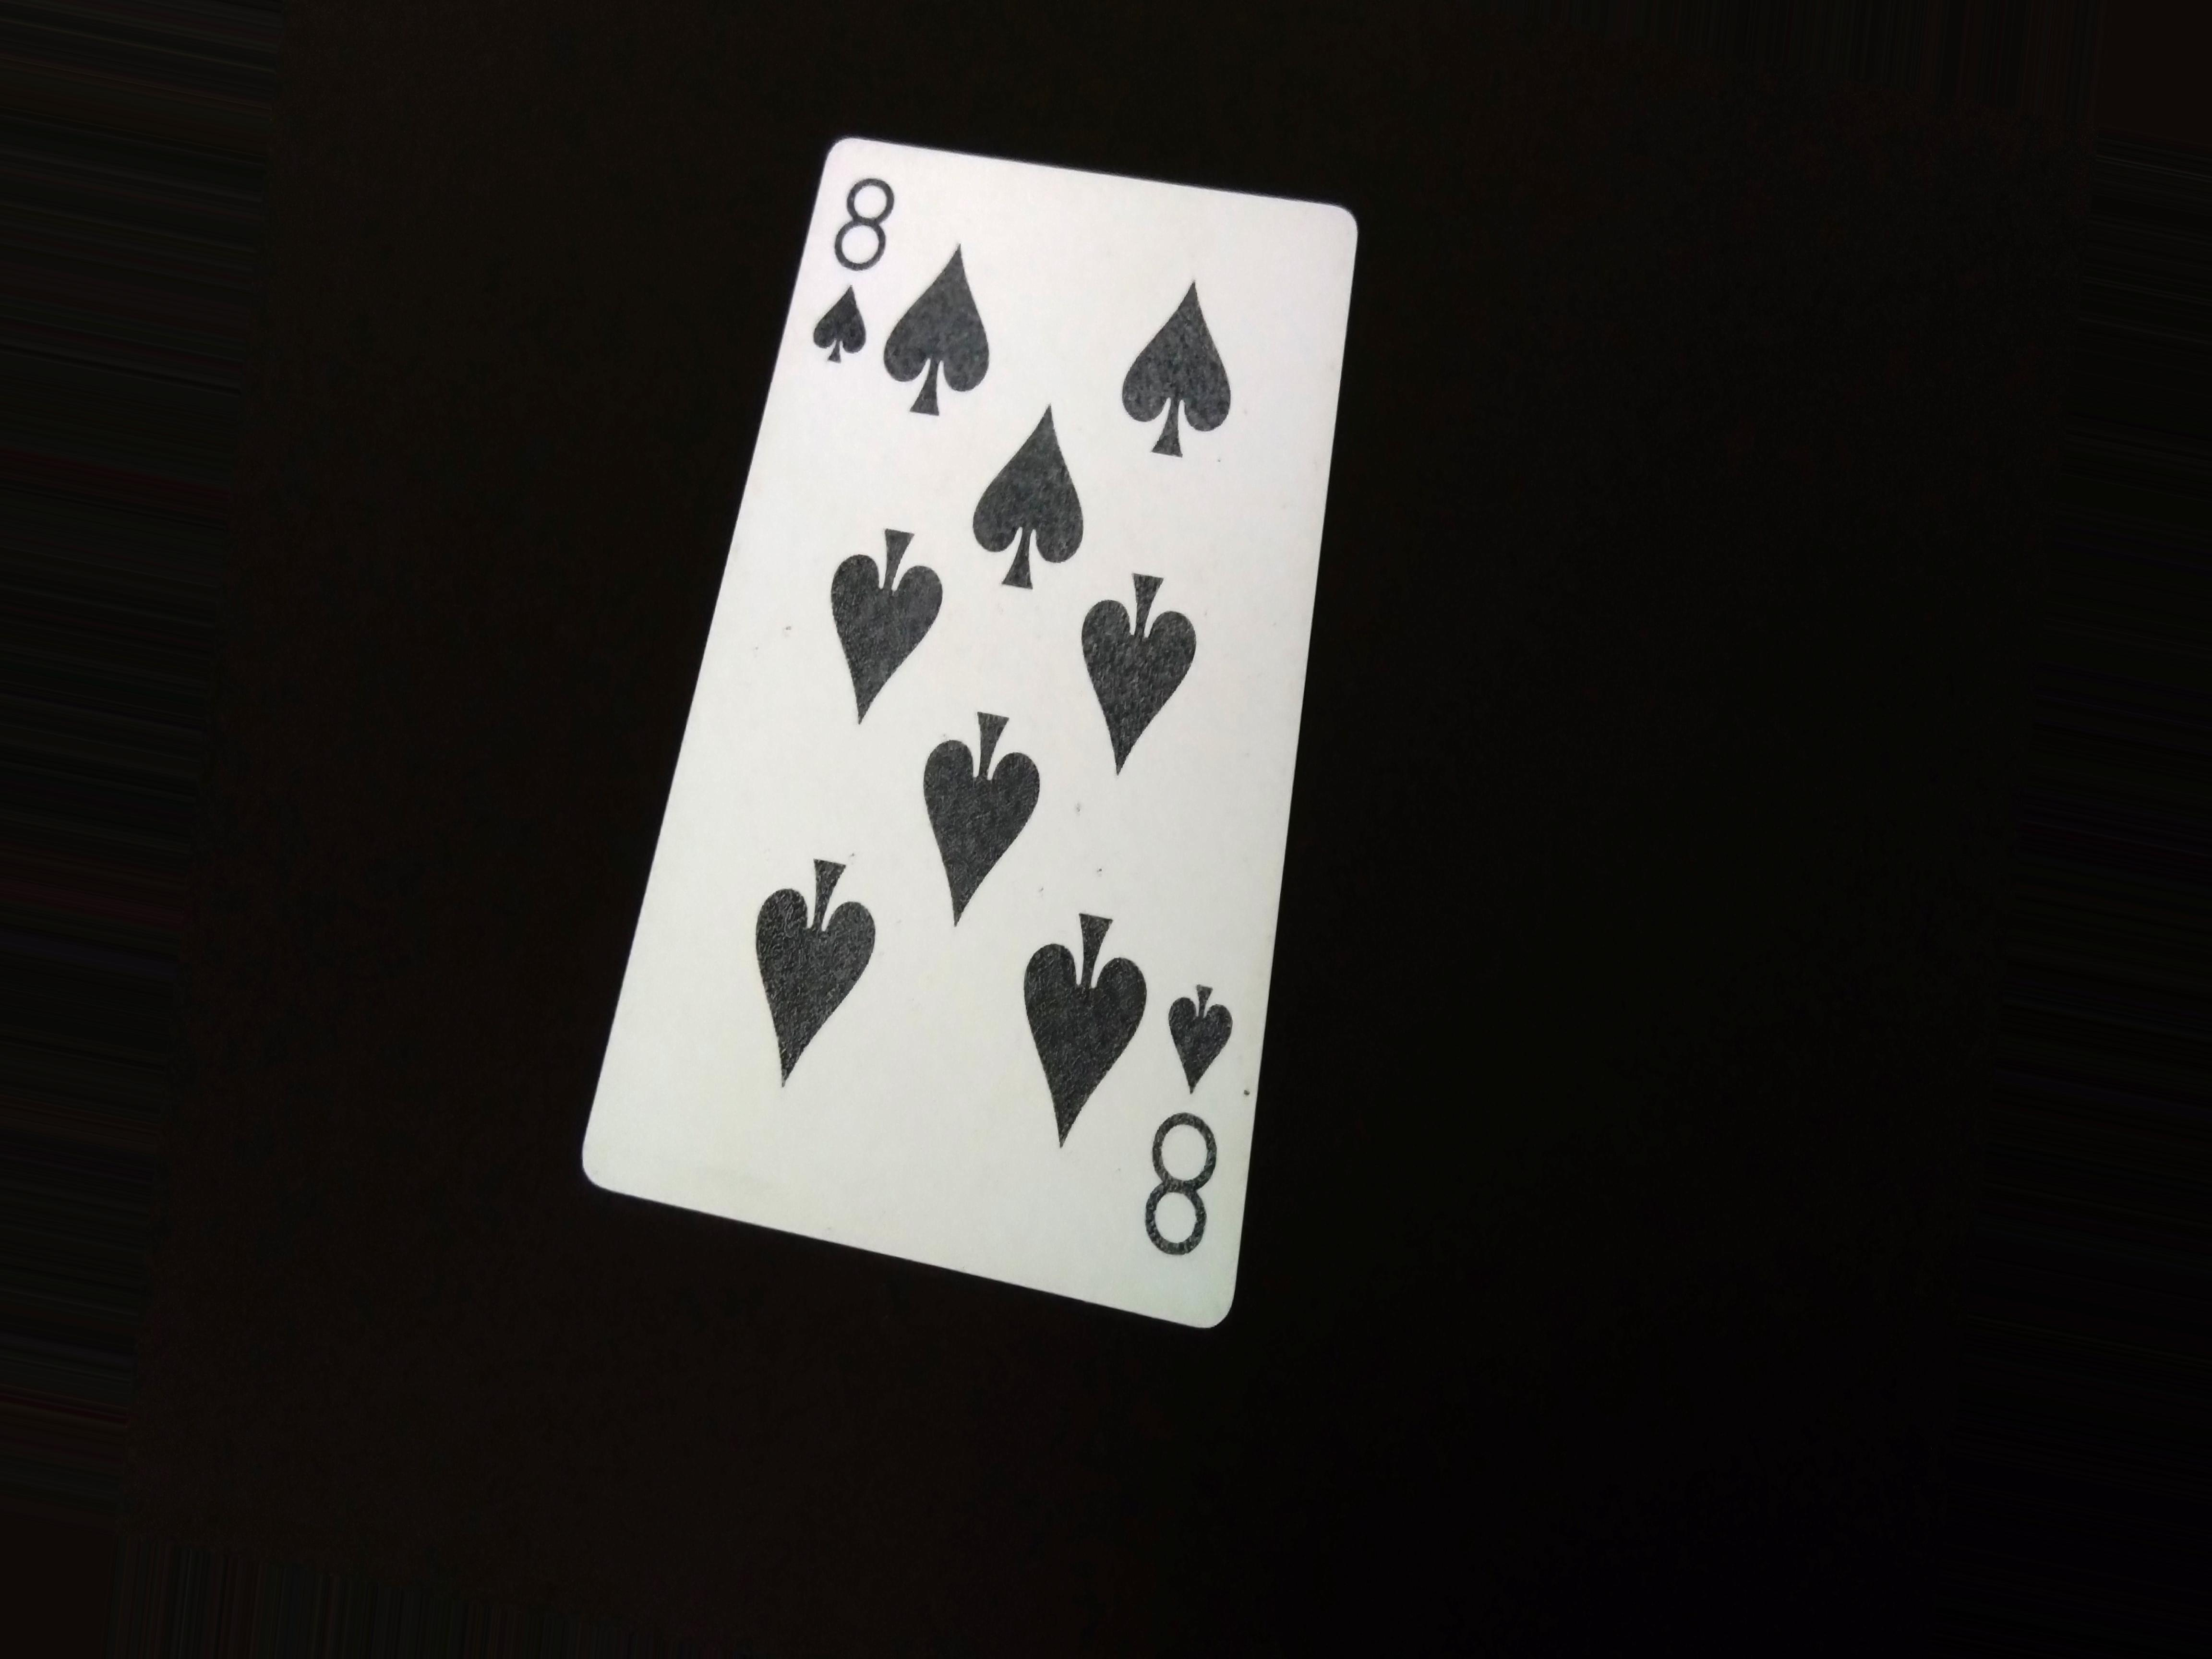8S: (812, 146, 913, 383)
